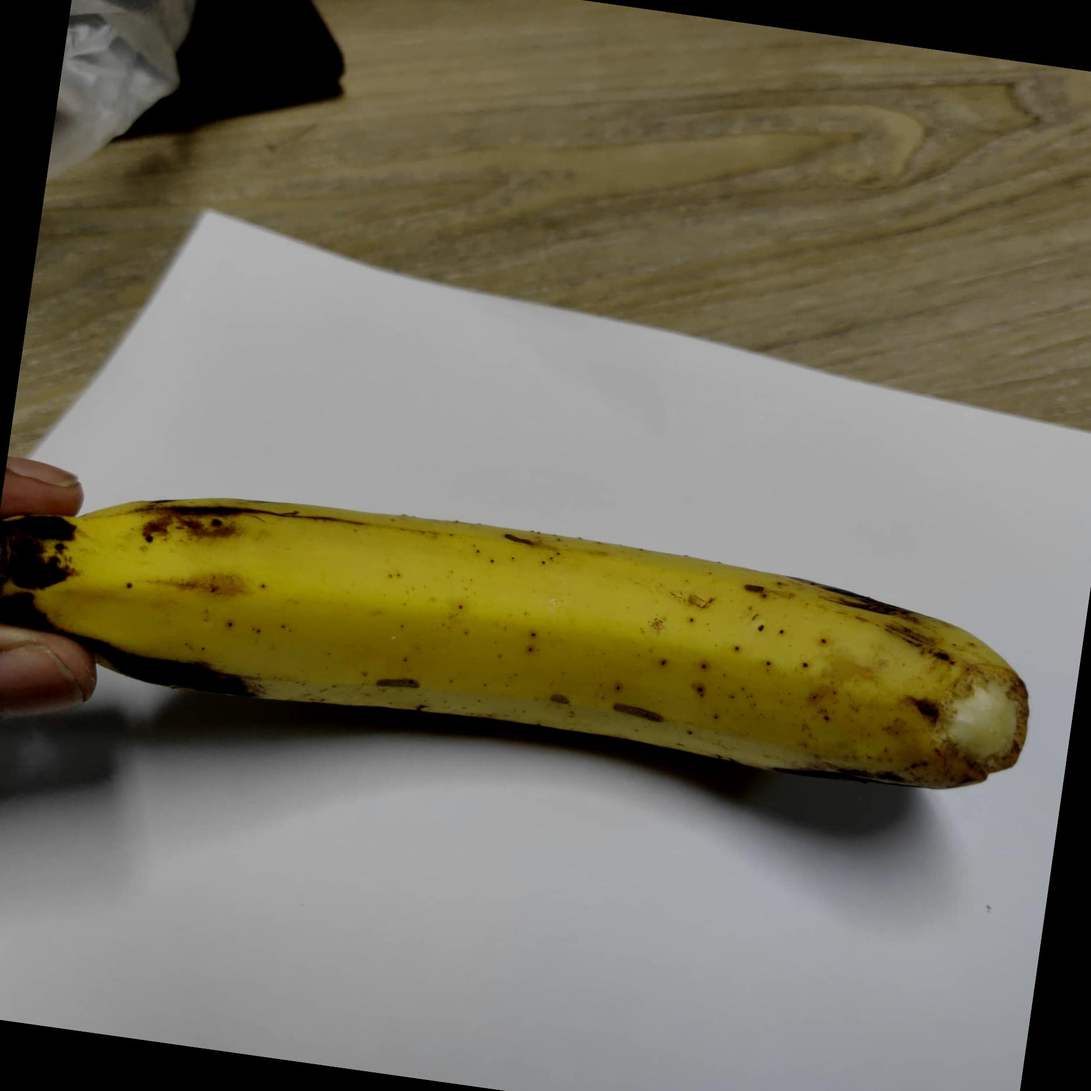Banana Ripe: (0, 377, 1091, 946)
